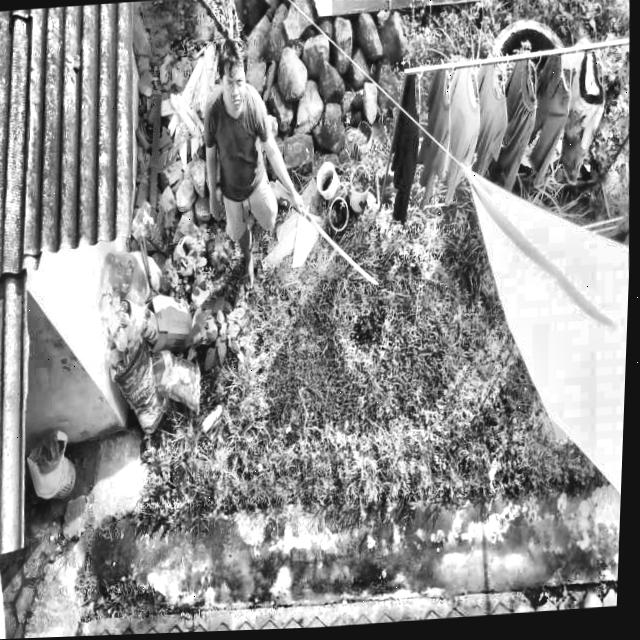pisau: (261, 189, 388, 287)
